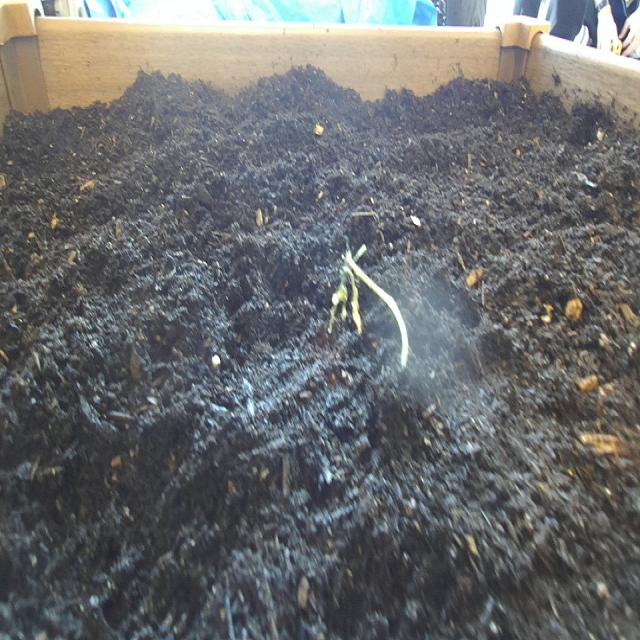Unhealthy: (323, 233, 418, 385)
